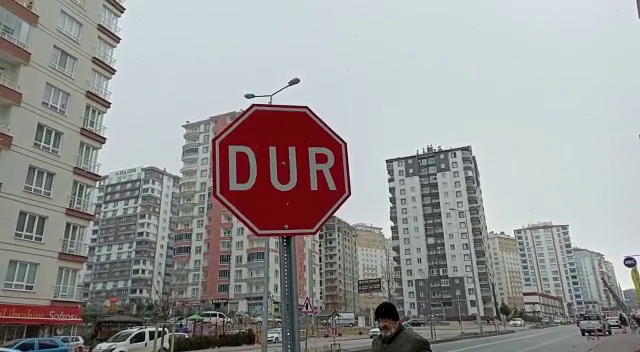stop: (210, 103, 353, 239)
